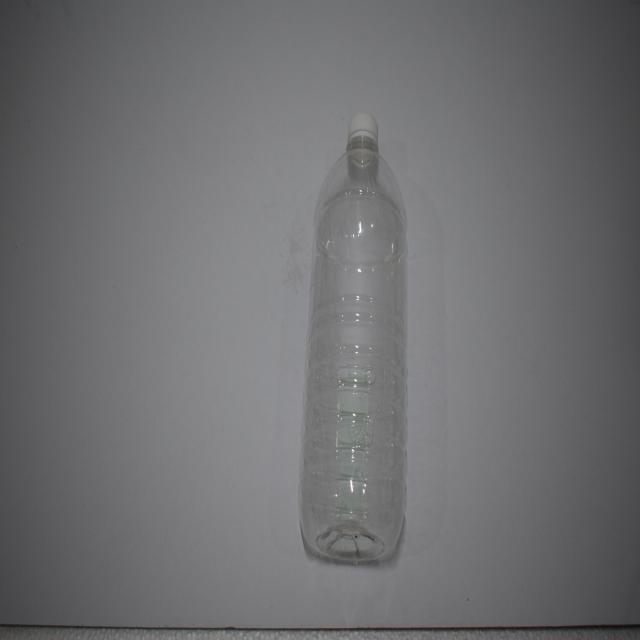bottle: (299, 106, 414, 581)
